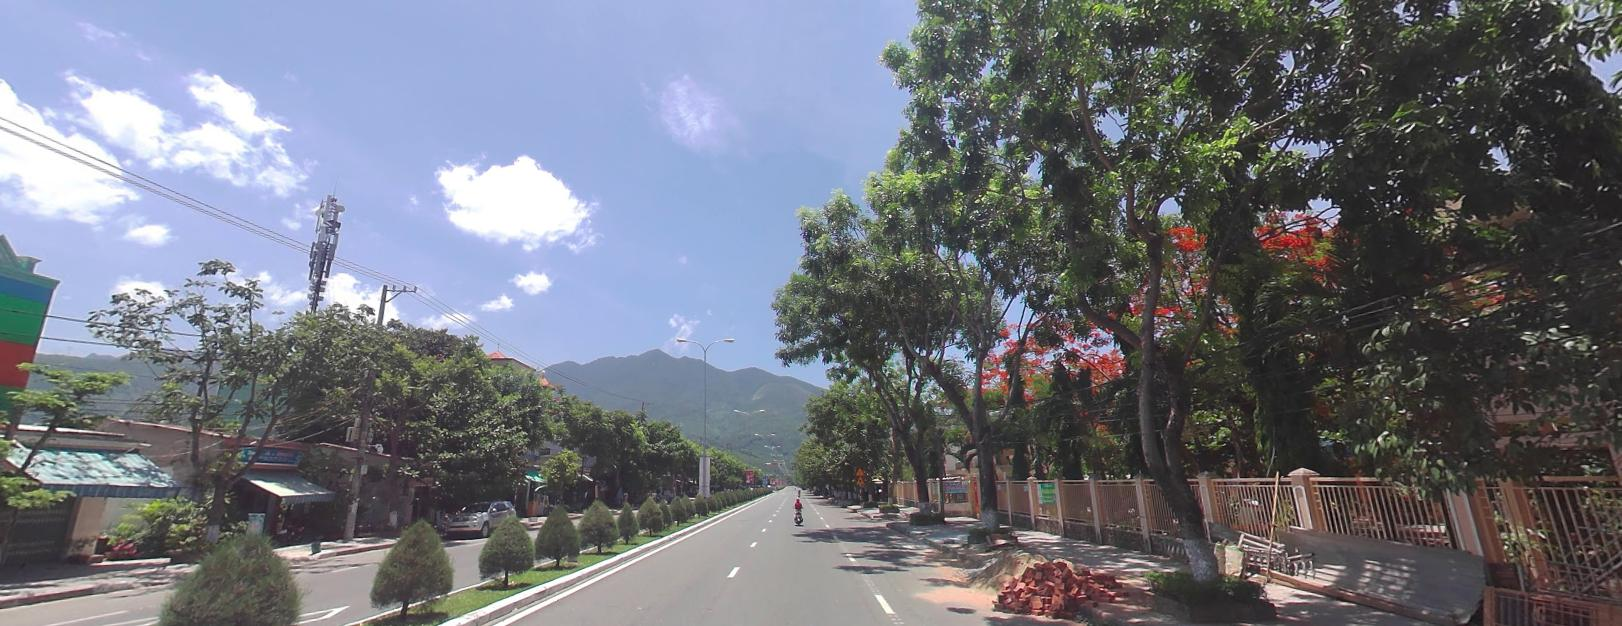Nguy hiem: (855, 475, 864, 483), (855, 466, 863, 474)
